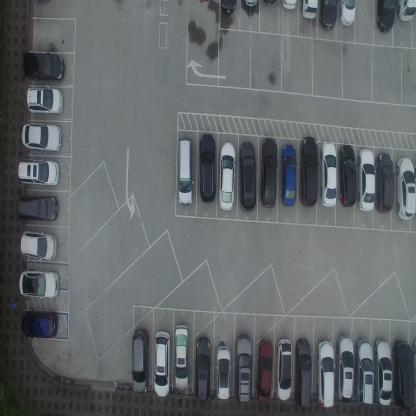car: (393, 339, 415, 411), (21, 51, 65, 83), (259, 135, 278, 209), (299, 134, 318, 208), (335, 333, 355, 403), (314, 338, 334, 408), (216, 140, 235, 212), (197, 132, 216, 204), (372, 338, 392, 406), (21, 121, 63, 153), (19, 229, 58, 263), (396, 156, 416, 222), (131, 327, 150, 395), (294, 337, 312, 408), (238, 142, 256, 213), (354, 338, 373, 405), (18, 268, 59, 299), (176, 137, 194, 207), (17, 159, 60, 188), (235, 332, 252, 405), (152, 329, 170, 397), (319, 140, 337, 208), (338, 143, 357, 207), (19, 308, 58, 339), (194, 336, 212, 402), (25, 86, 63, 116), (173, 323, 190, 390), (275, 339, 293, 402), (16, 195, 58, 222), (280, 141, 297, 207), (376, 152, 394, 214), (256, 339, 273, 404), (358, 148, 375, 212), (215, 345, 231, 401), (375, 0, 396, 33), (318, 0, 337, 30), (338, 0, 356, 27), (298, 0, 318, 21), (396, 0, 415, 22), (219, 0, 237, 15), (280, 0, 298, 12), (243, 0, 259, 9)
